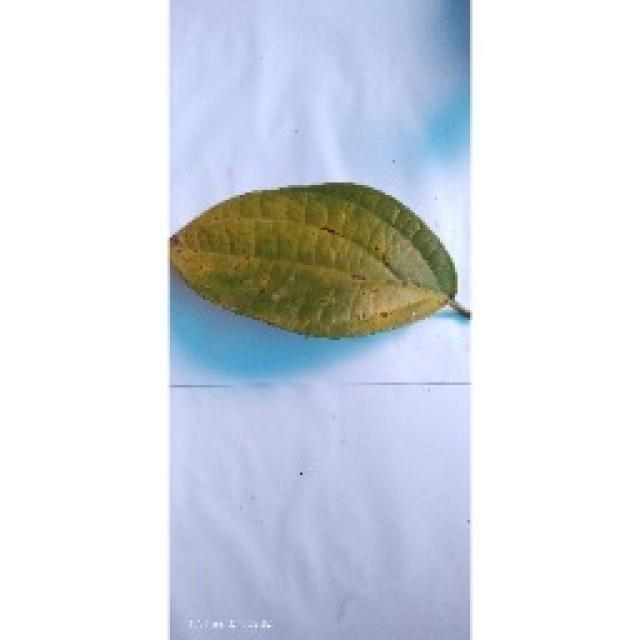slow-decline: (165, 175, 465, 337)
